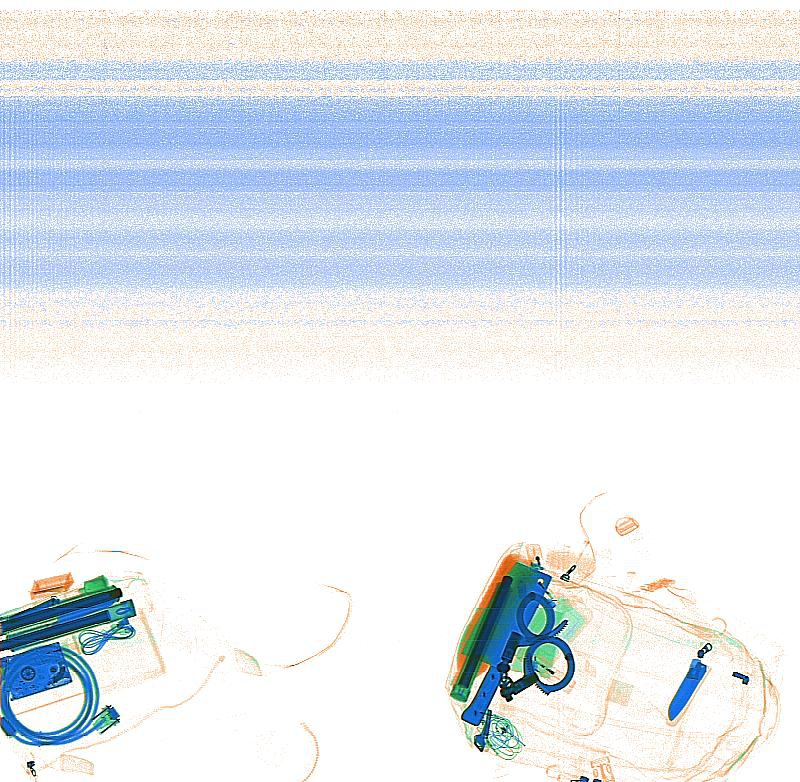handcuffs: (496, 590, 575, 702)
knife: (459, 558, 555, 727), (20, 591, 117, 641), (663, 657, 713, 727), (5, 593, 63, 625)
lighter: (526, 653, 580, 697), (523, 540, 546, 582)
nailpolish: (63, 574, 111, 600)
